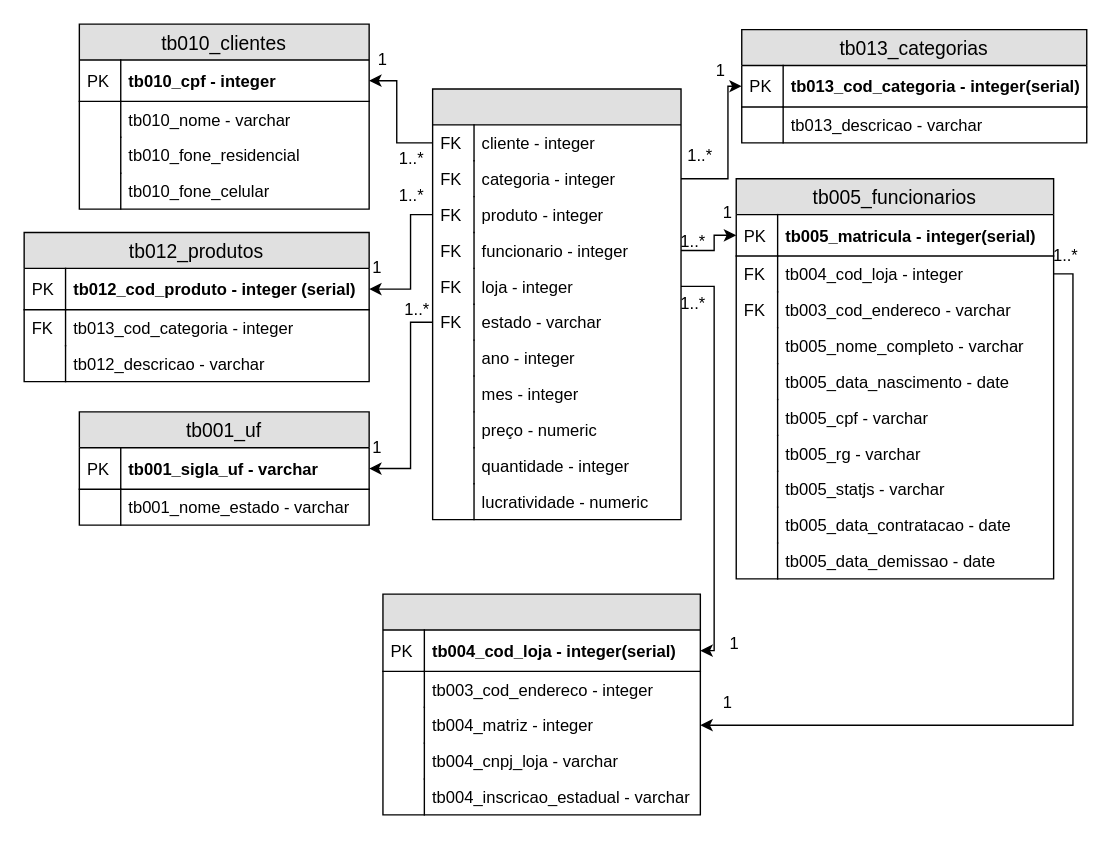
Image size: 1111x843. Some labels were removed from this diagram. The box of each missing label's shape, as (x1, y1, x2, y2) in pixels:
fato_vendas: (431, 88, 681, 520)
tb004_lojas: (382, 593, 700, 815)
